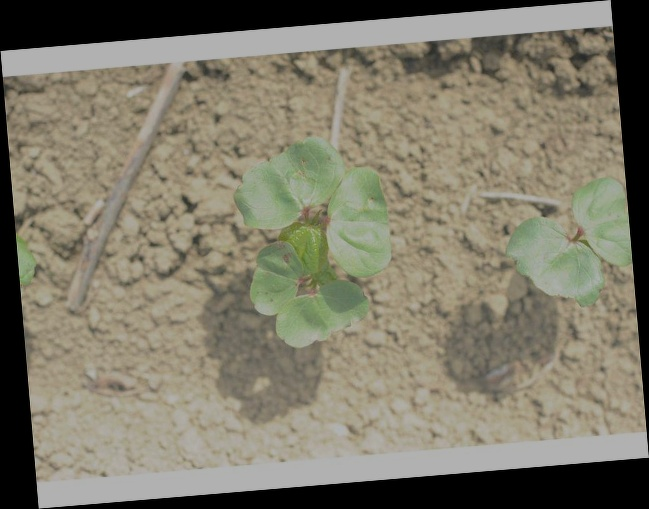cotton: (236, 137, 393, 349), (505, 179, 630, 311)
